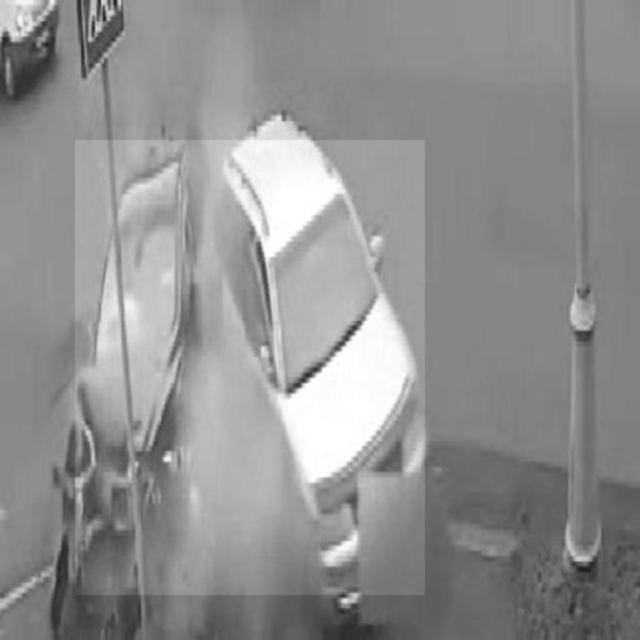accident: (76, 140, 426, 596)
